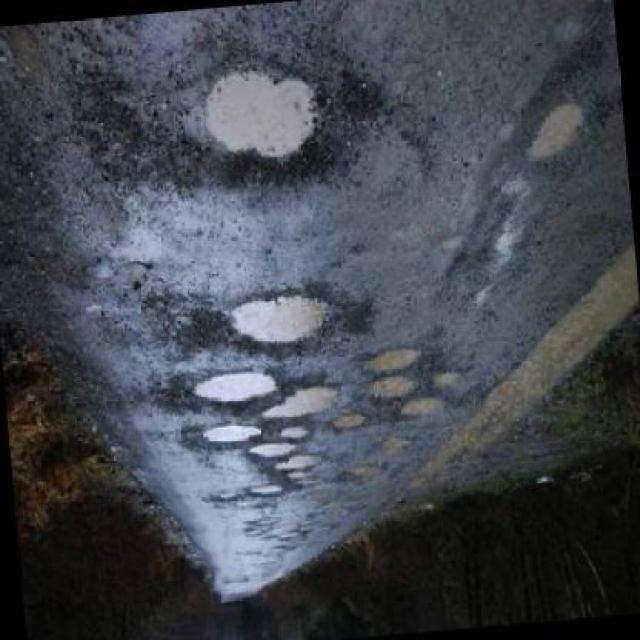pothole1: (187, 62, 338, 192), (220, 288, 342, 358), (188, 366, 284, 416), (522, 104, 592, 167), (260, 383, 342, 426), (358, 344, 424, 378), (200, 421, 268, 452), (367, 374, 421, 401), (397, 397, 449, 423), (272, 455, 325, 476), (252, 442, 300, 463), (249, 484, 285, 502), (333, 417, 367, 434)
